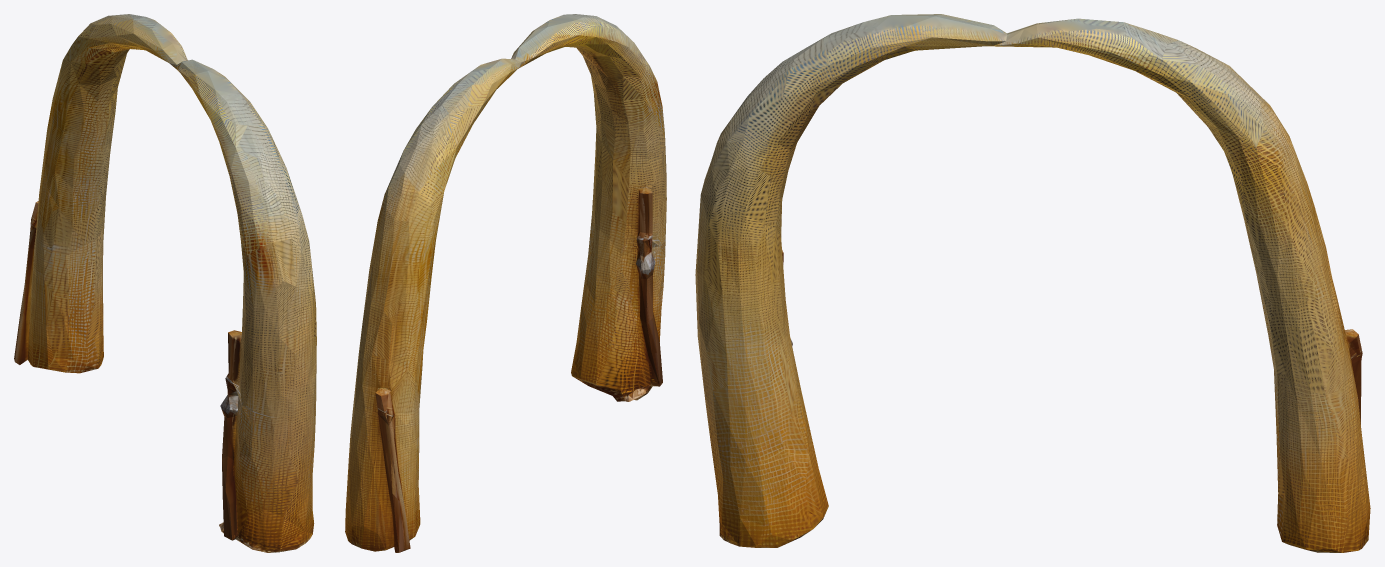
File: arco_totora.glb
3 renders of one model, left to right at view 1: azimuth 30°, elevation 25°; view 2: azimuth 150°, elevation 25°; view 3: azimuth 270°, elevation 25°, orthographic. The views are drawn at different scales.
Parts seen in each view (by area): view 1: material; view 2: material; view 3: material.
Boxes of the visible parts, x1=… form: material: x1=14, y1=14, x2=316, y2=552; material: x1=345, y1=14, x2=666, y2=552; material: x1=695, y1=14, x2=1370, y2=552.
Bounding box in the file's own units: 0.7538 × 3.11 × 3.67.
Materials: 1 (1 with a texture image).
